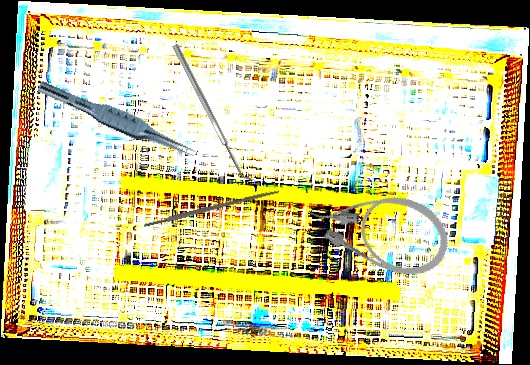Cannula: (301, 168, 459, 287)
Scalpel Handle: (143, 188, 280, 228)
Spatula Surgical: (172, 40, 254, 186)
Tissue Forceps: (33, 79, 200, 162)
